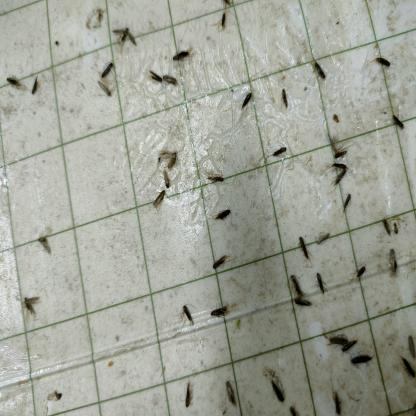prays_oleae: (209, 291, 235, 326), (113, 20, 139, 51), (176, 300, 196, 338), (208, 248, 234, 277), (325, 129, 351, 157), (310, 48, 328, 86), (28, 78, 53, 104), (351, 262, 376, 288), (160, 144, 184, 170), (297, 230, 313, 265), (388, 108, 407, 137), (272, 134, 290, 164), (398, 354, 416, 384), (207, 207, 238, 224), (180, 377, 196, 408), (204, 170, 230, 188), (342, 191, 357, 221), (236, 88, 256, 110), (216, 13, 235, 36), (290, 265, 304, 296), (371, 54, 394, 72), (292, 292, 312, 312), (37, 233, 56, 254), (163, 72, 179, 95), (170, 48, 191, 65), (145, 69, 166, 86), (328, 332, 351, 347), (5, 74, 24, 92), (342, 355, 378, 364), (329, 168, 350, 183), (96, 81, 114, 98), (277, 88, 293, 107), (98, 59, 114, 78), (150, 188, 164, 209), (24, 292, 37, 313), (342, 343, 363, 356), (315, 272, 327, 290), (381, 214, 391, 235), (160, 172, 172, 186)
